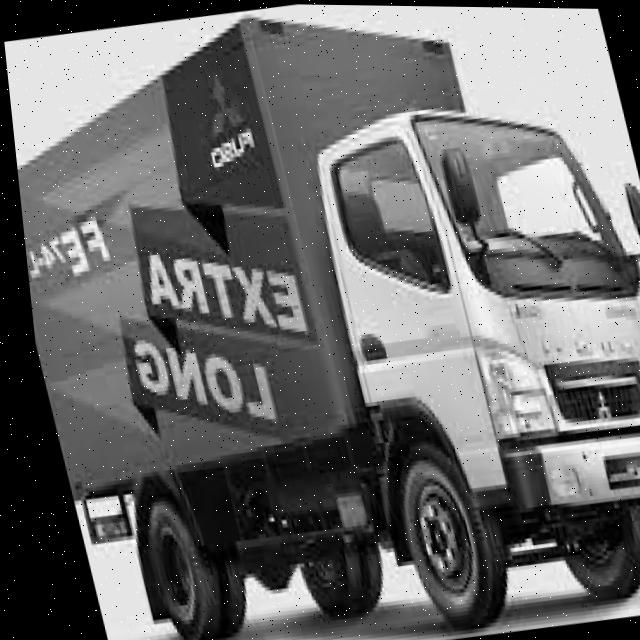truck: (260, 51, 640, 640)
